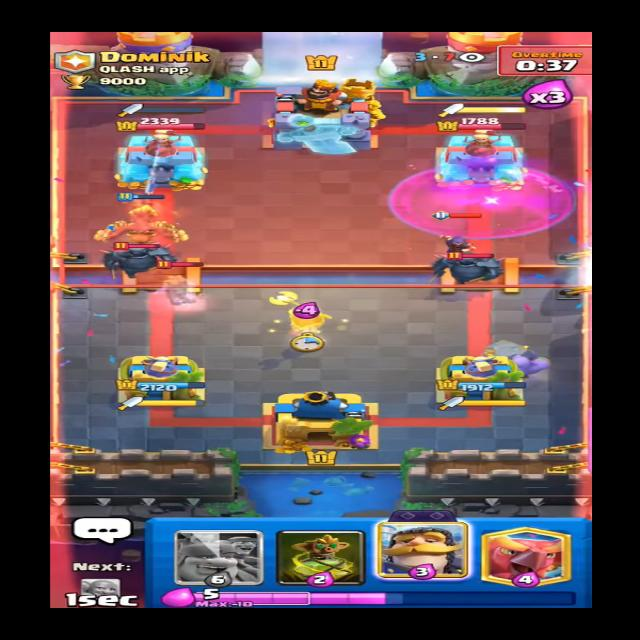Evowizard: (416, 205, 504, 259)
Pekka: (95, 235, 169, 281), (429, 246, 507, 288)
Royalghost: (148, 260, 220, 312)
